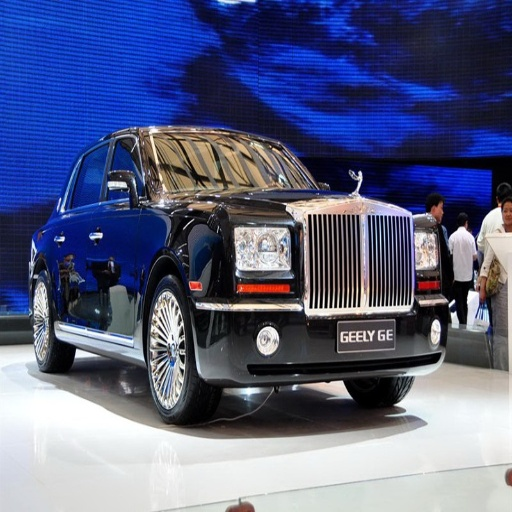back_bumper: (208, 322, 298, 376), (379, 313, 443, 373)
back_left_door: (103, 138, 149, 215), (103, 278, 134, 335)
back_right_door: (169, 139, 250, 201)
tailgate: (280, 193, 356, 249)
trunk: (301, 237, 433, 347), (109, 204, 222, 301)
